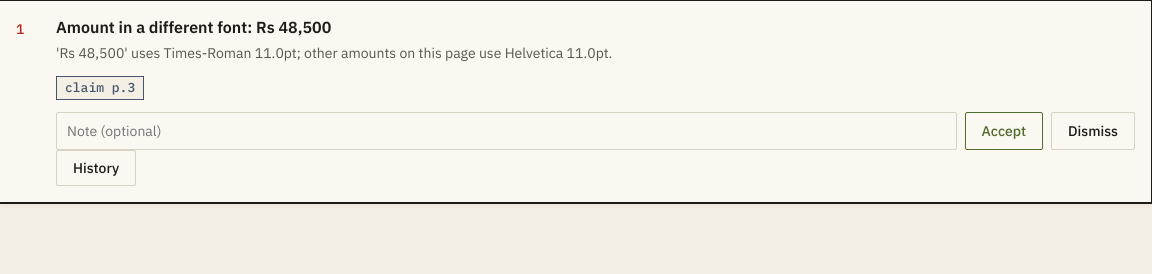
Test: history › a failed load says so and can be retried
Click the button "History". click: (96, 168)
box: [56, 150, 136, 186]
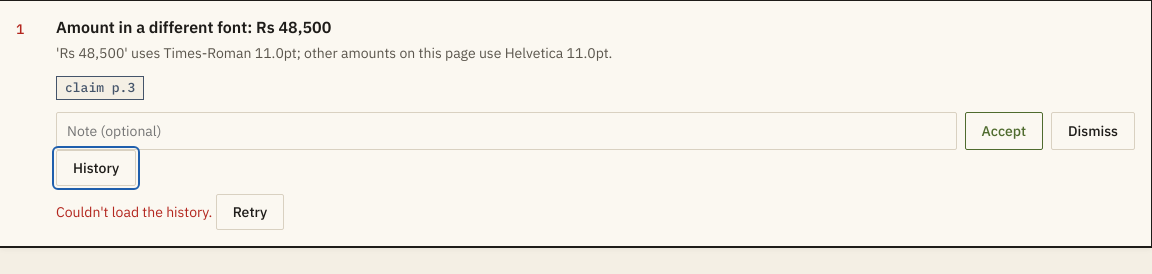
Check: the message shows "Couldn't load the history", box [56, 203, 216, 221]
Click the button "Retry". click: (250, 212)
box: [216, 194, 284, 230]
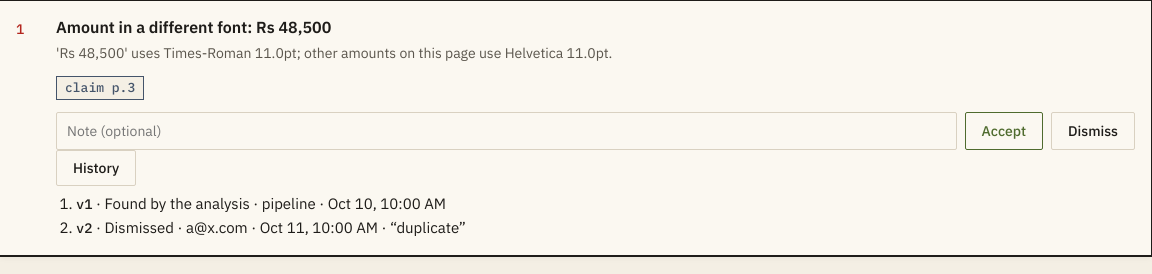
Check: the number of list items is 2, box [76, 194, 446, 213]; [76, 218, 466, 237]
